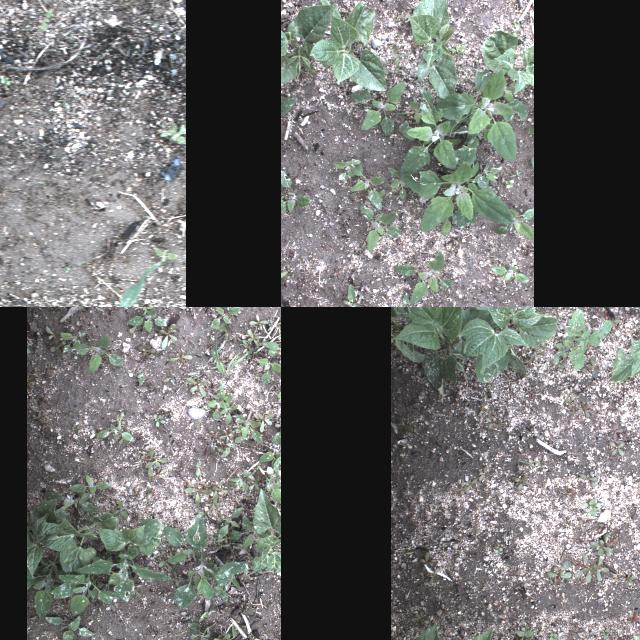crop: (453, 307, 558, 386), (77, 518, 171, 604), (164, 512, 248, 608), (0, 262, 162, 307), (309, 0, 387, 91), (393, 307, 463, 403), (44, 498, 128, 572), (406, 0, 458, 103), (229, 488, 281, 587), (281, 4, 337, 88), (50, 556, 120, 616), (28, 492, 76, 578), (481, 32, 534, 94), (28, 554, 62, 620), (610, 307, 640, 381)
weed: (398, 146, 514, 237), (436, 70, 528, 162), (399, 86, 457, 180), (221, 307, 281, 390), (176, 323, 228, 393), (552, 310, 612, 370), (349, 80, 407, 140), (393, 251, 455, 305), (360, 204, 402, 252), (74, 332, 122, 373), (348, 161, 386, 211), (281, 169, 312, 217), (68, 474, 112, 504), (494, 207, 534, 239), (44, 615, 95, 640), (126, 308, 166, 334), (256, 348, 281, 384), (281, 86, 297, 142), (217, 506, 243, 540), (235, 414, 263, 444), (259, 432, 281, 470), (208, 307, 242, 330), (388, 167, 408, 203), (208, 384, 228, 420), (186, 619, 219, 640), (264, 465, 281, 505), (94, 426, 134, 442), (546, 559, 572, 583), (592, 532, 616, 558), (332, 160, 360, 182), (260, 338, 281, 366), (158, 322, 178, 351), (494, 266, 530, 282), (220, 392, 238, 424), (160, 122, 186, 144), (580, 555, 600, 583), (319, 0, 341, 24), (222, 435, 246, 457), (342, 284, 363, 307), (60, 332, 84, 352), (182, 488, 212, 504), (391, 46, 409, 72), (230, 471, 252, 491), (187, 377, 207, 397), (213, 625, 237, 640), (510, 473, 530, 491), (515, 622, 535, 640), (576, 470, 598, 486), (154, 248, 178, 262), (206, 442, 227, 458), (588, 354, 602, 378), (595, 558, 609, 582), (250, 314, 270, 330), (607, 442, 627, 458), (419, 549, 433, 571), (410, 100, 422, 124), (258, 414, 274, 432), (396, 416, 412, 434), (584, 498, 600, 516), (608, 424, 624, 441), (41, 9, 53, 31), (145, 457, 169, 468), (212, 479, 224, 501), (208, 542, 230, 554), (428, 565, 440, 587), (168, 353, 194, 363), (198, 611, 224, 621), (247, 330, 261, 346), (246, 478, 262, 492), (44, 326, 56, 344), (136, 369, 148, 387), (218, 430, 236, 442), (136, 346, 156, 356), (152, 466, 166, 480), (373, 190, 385, 206), (63, 307, 101, 312), (447, 44, 465, 54), (115, 412, 125, 430), (148, 447, 154, 477), (134, 307, 154, 316), (158, 560, 176, 570), (397, 291, 408, 307), (0, 76, 12, 90), (154, 414, 166, 428), (118, 430, 130, 444), (486, 416, 498, 430), (513, 23, 521, 43), (208, 500, 224, 510), (281, 264, 292, 278), (128, 322, 142, 333), (163, 374, 175, 386), (212, 486, 230, 494), (331, 266, 341, 280), (624, 570, 634, 584), (218, 536, 235, 544), (349, 246, 363, 254), (274, 417, 281, 432), (511, 169, 523, 177), (172, 570, 178, 586), (195, 461, 201, 477), (490, 546, 502, 554), (602, 628, 610, 640), (281, 191, 291, 200), (504, 181, 514, 189), (410, 614, 420, 622), (548, 632, 558, 640), (146, 488, 152, 499), (277, 331, 281, 342), (88, 633, 94, 640), (64, 267, 70, 273), (202, 473, 206, 477), (26, 348, 29, 352)
